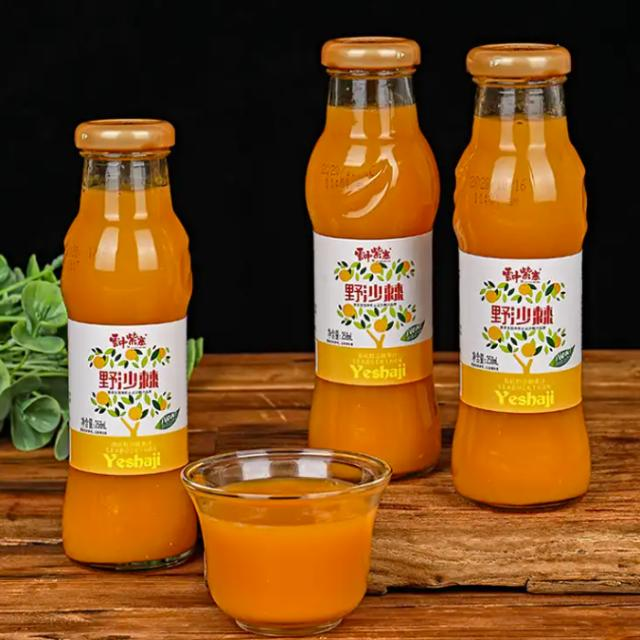bottle: (452, 41, 597, 509), (308, 34, 450, 481), (62, 116, 194, 570)
